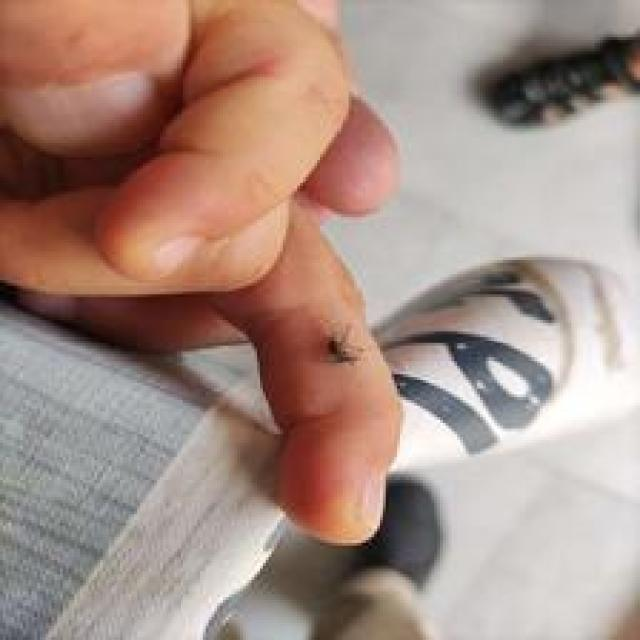Aedes albopictus: (366, 253, 634, 458)
